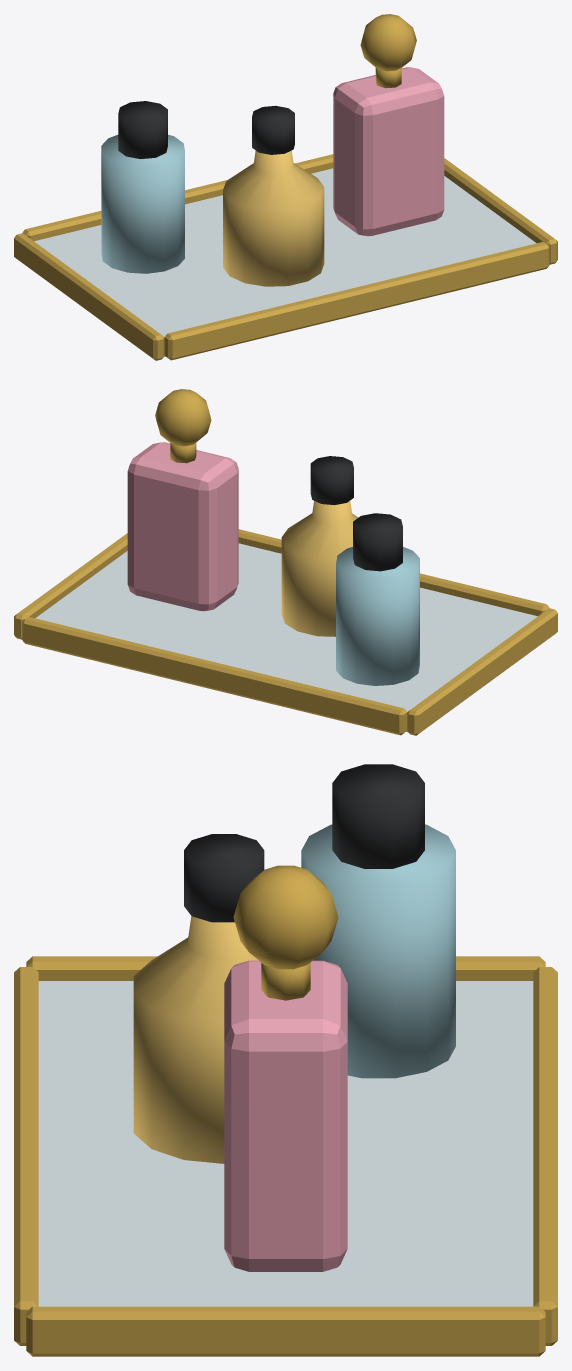
Rendered from perfumeTray.glb.
3 renders of one model, top to bottom at view 1: azimuth 30°, elevation 25°; view 2: azimuth 150°, elevation 25°; view 3: azimuth 270°, elevation 25°, orthographic. The views are drawn at different scales.
Visible parts, largest first — view 1: perfumeTray; view 2: perfumeTray; view 3: perfumeTray.
Part boxes in pixels (box(x1,y1,x2,y2)): perfumeTray: box(14, 14, 557, 360); perfumeTray: box(14, 389, 557, 735); perfumeTray: box(14, 764, 557, 1356).
Bounding box in the file's own units: 0.276 × 0.143 × 0.176.
